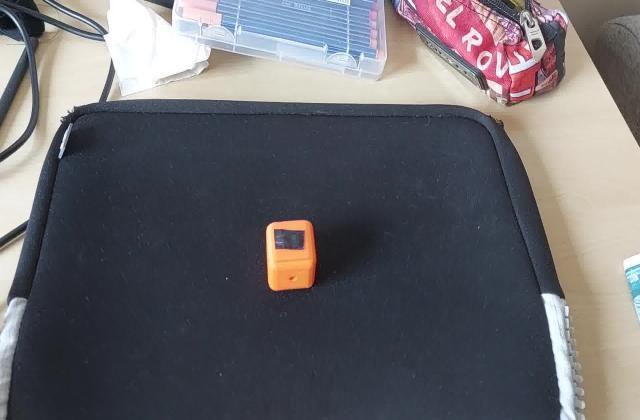black: (268, 226, 308, 253)
sticker: (262, 217, 319, 294)
